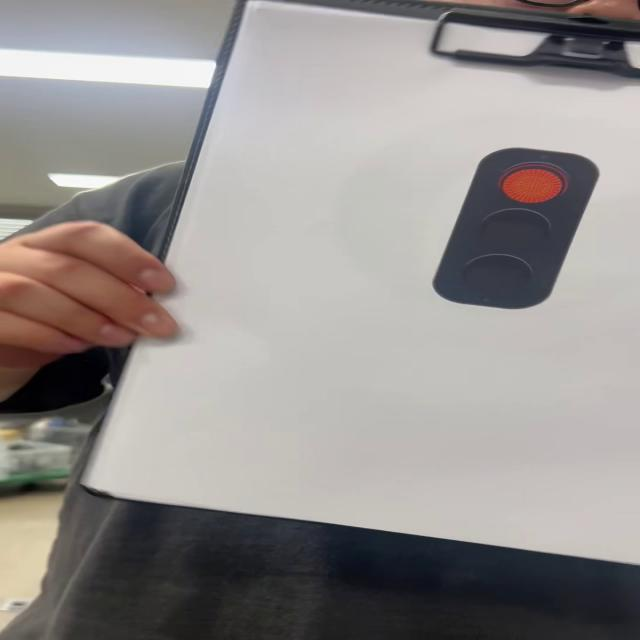red: (428, 146, 606, 312)
